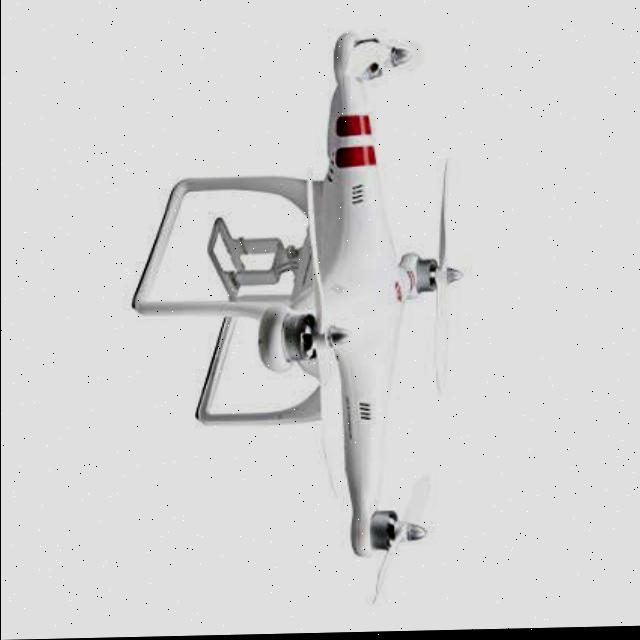drone: (119, 20, 481, 626)
